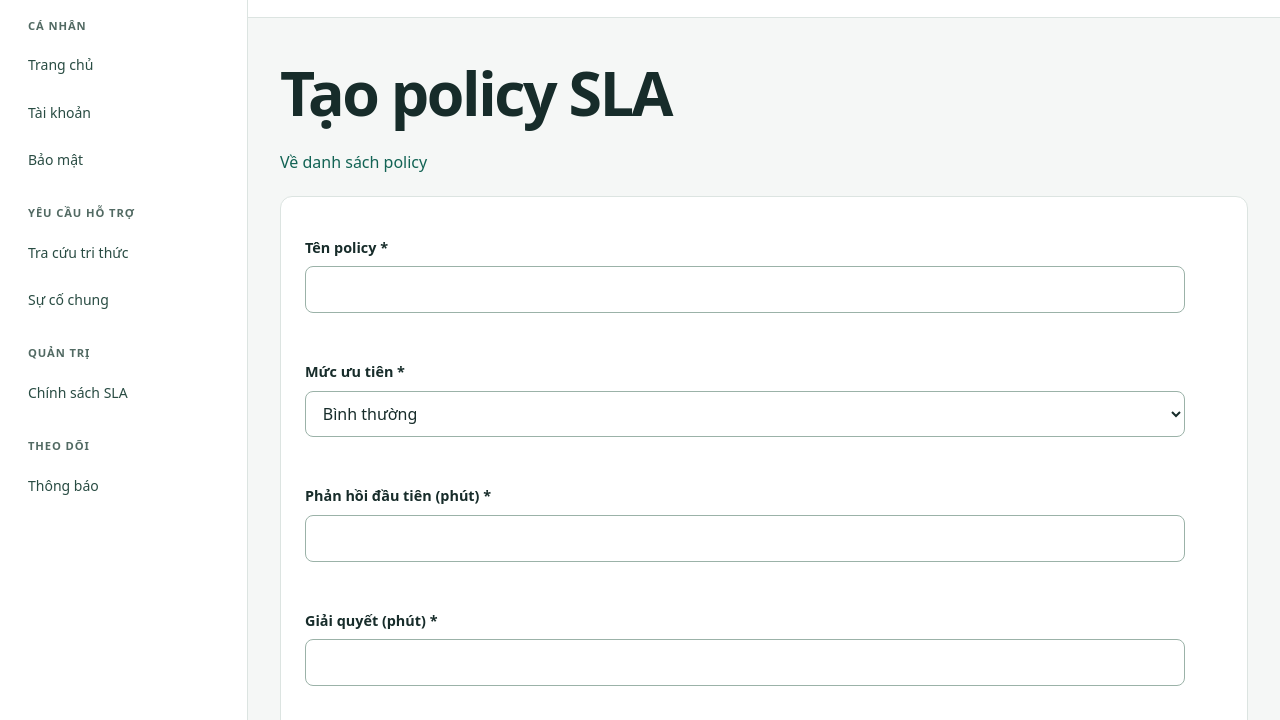
SLA policy permission, pagination and forms › creates an active policy using only the four accepted fields and opens its returned detail
Type "Cam kết mới" into the field labelled "Tên policy" at (745, 290), box [305,266,1185,313]
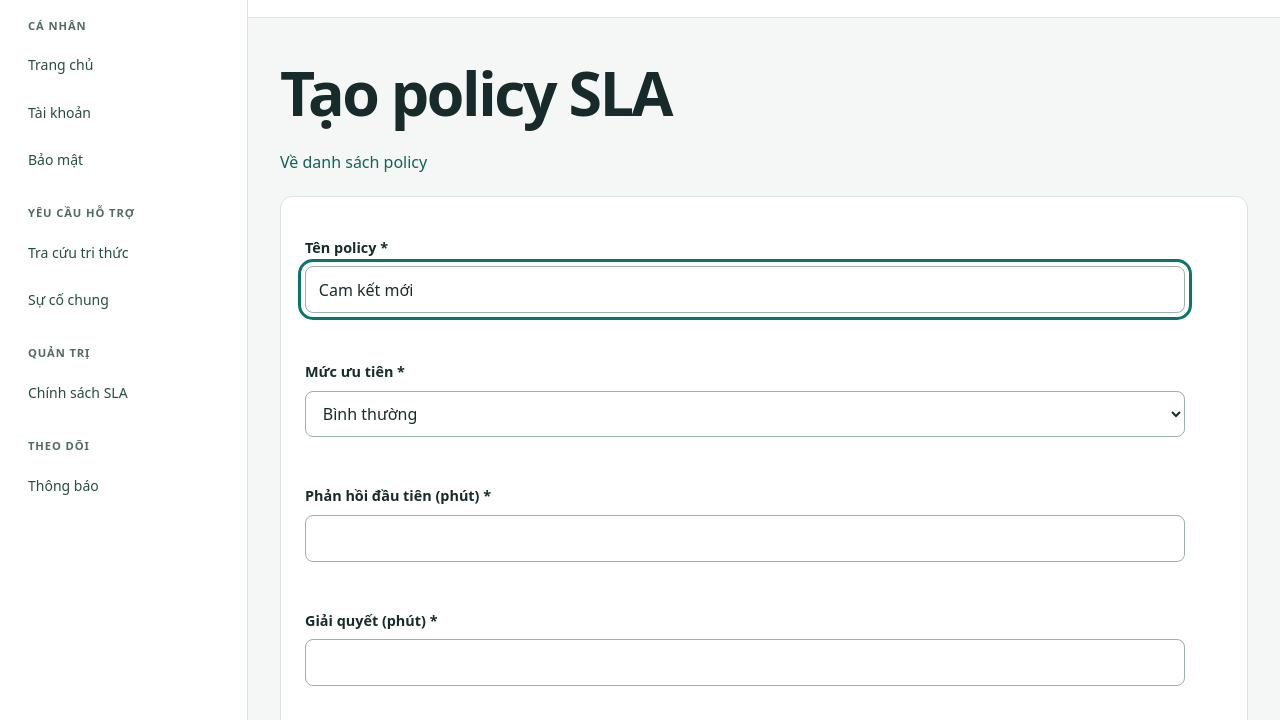
Type "30" into the number field labelled "Phản hồi đầu tiên (phút)" at (745, 538), box [305,515,1185,562]
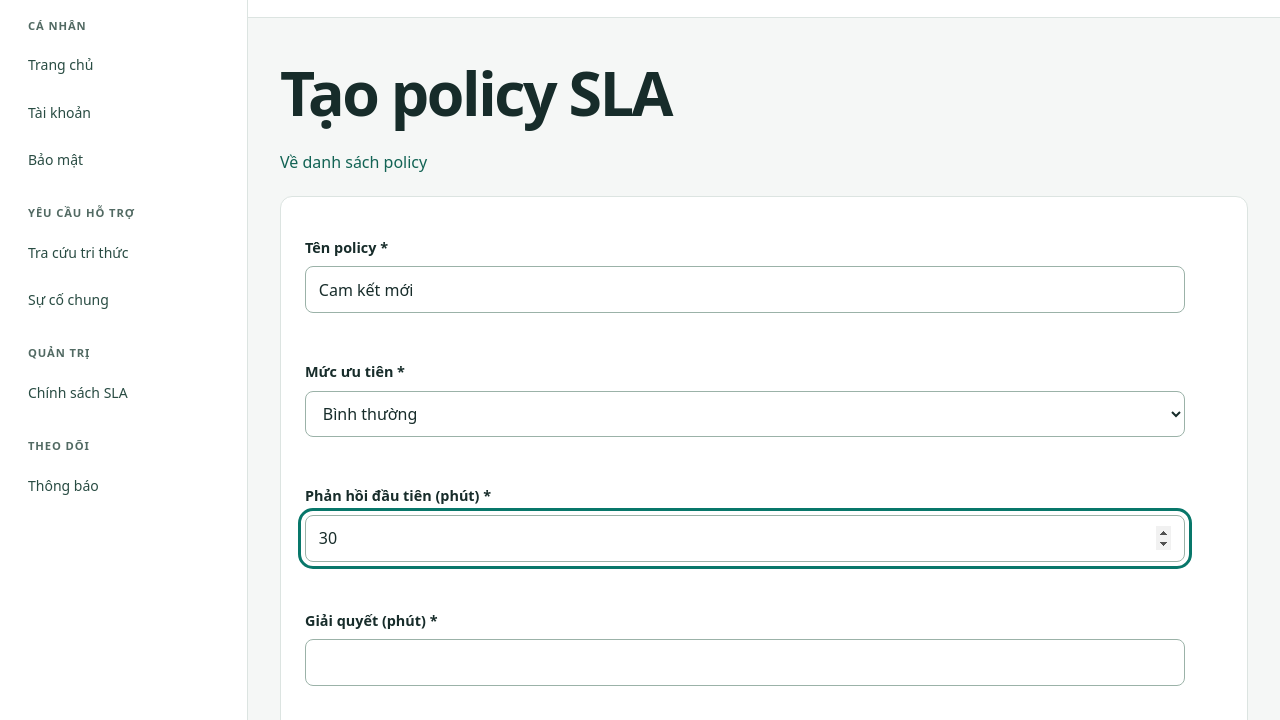
Type "120" into the number field labelled "Giải quyết (phút)" at (745, 663), box [305,640,1185,686]
(page scrolled)
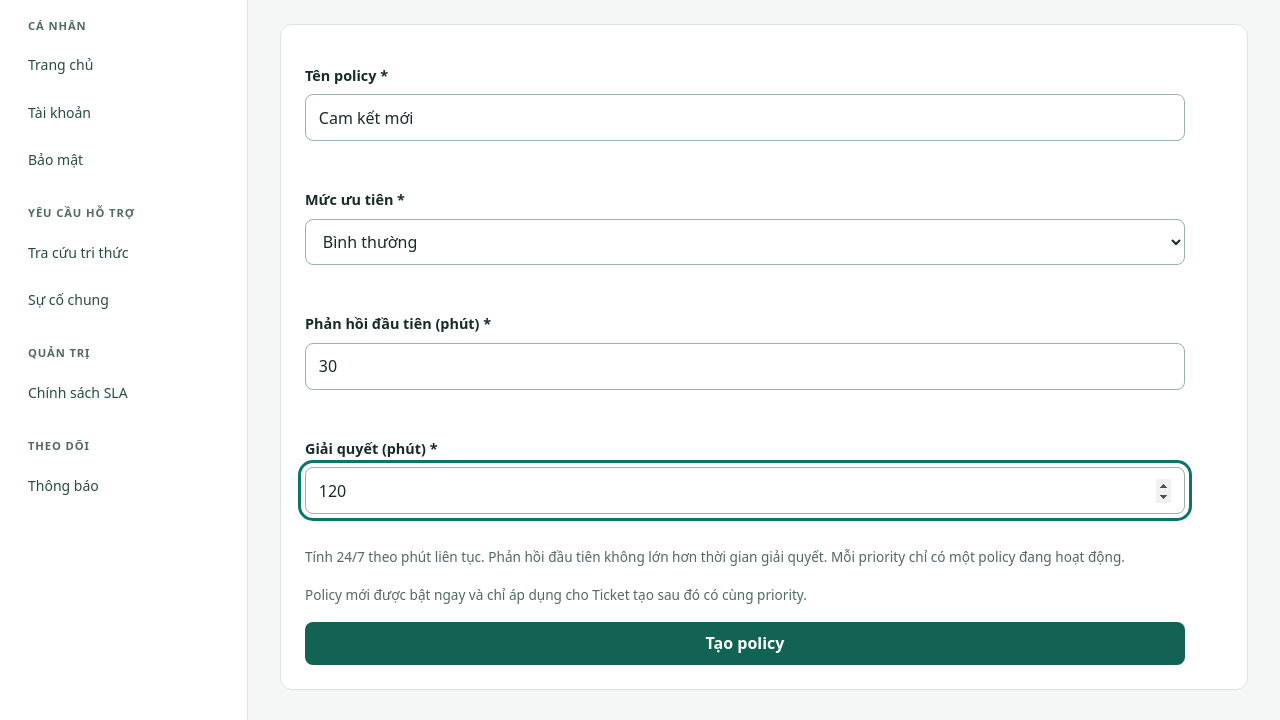
Click the button "Tạo policy" at (745, 644), box [305,622,1185,665]
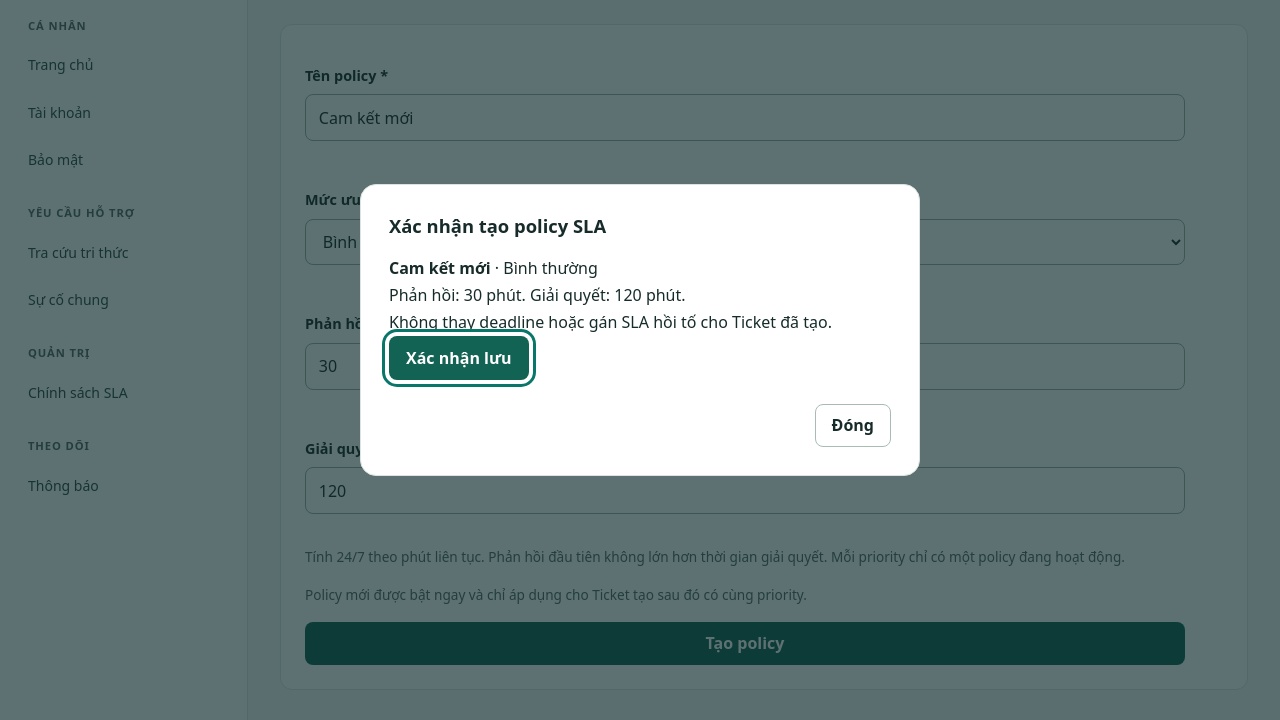
Click the button "Xác nhận lưu" at (459, 358), box [389,336,529,380]
(page scrolled)
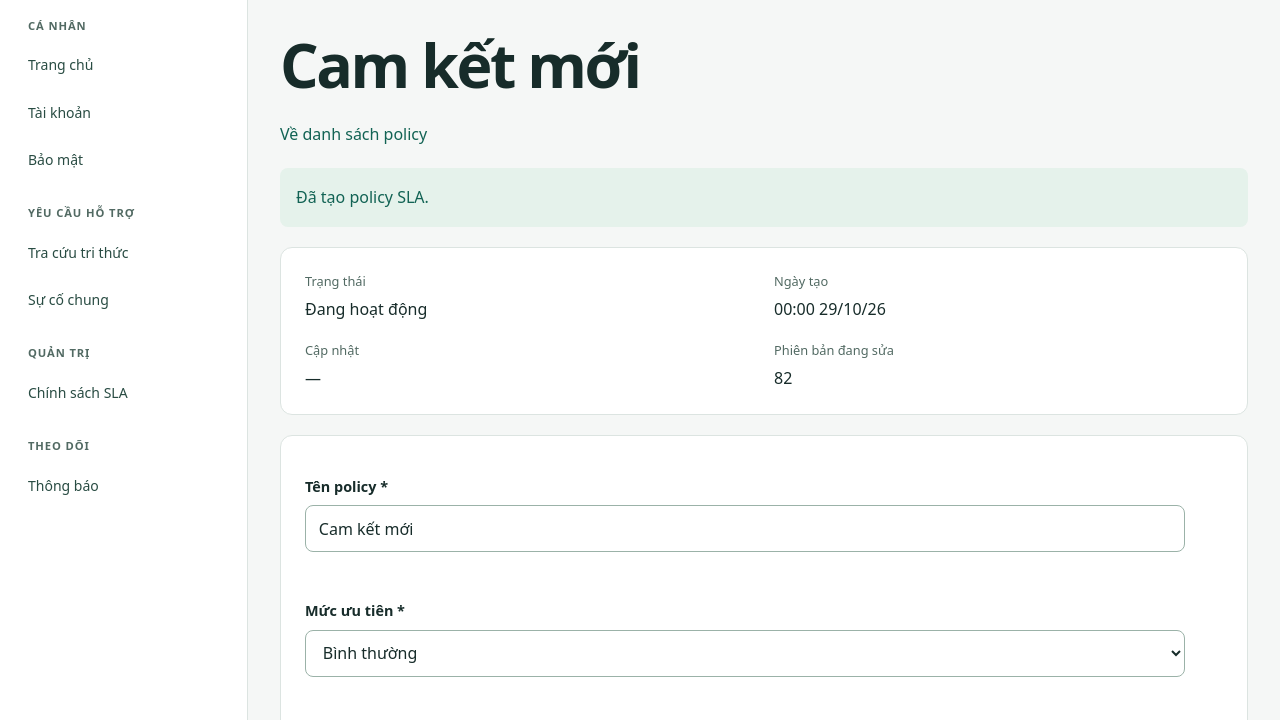
Check: the heading "Cam kết mới" is shown, box [280,23,640,106]
